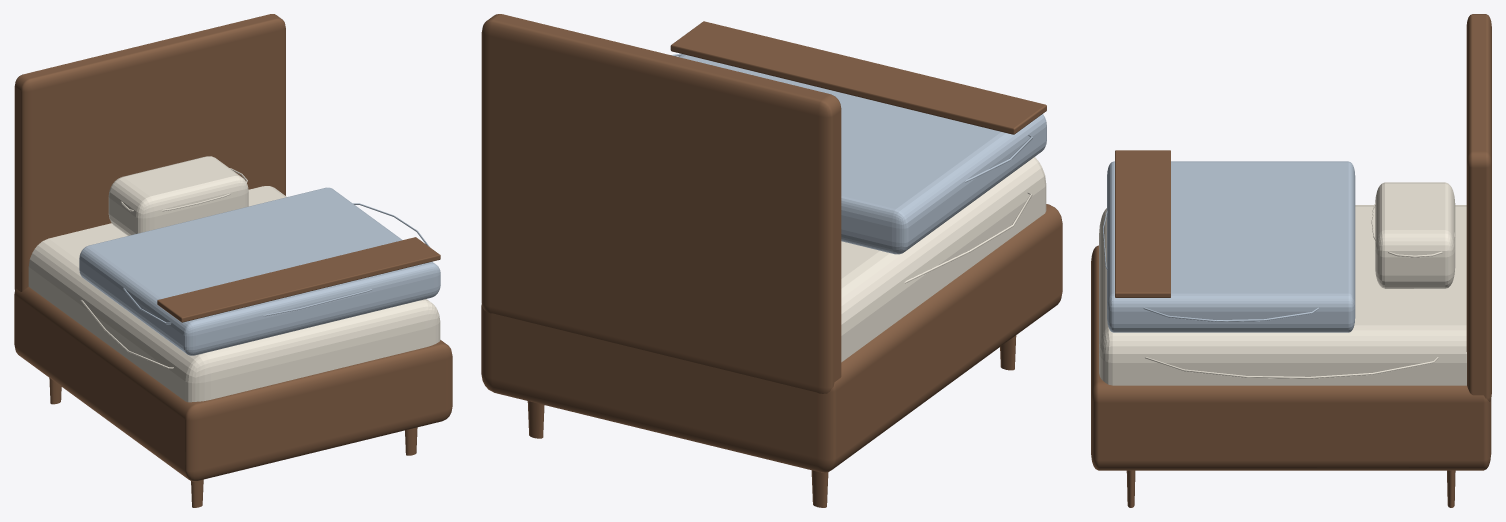
File: bed-2-3.glb
3 renders of one model, left to right at view 1: azimuth 30°, elevation 25°; view 2: azimuth 150°, elevation 25°; view 3: azimuth 270°, elevation 25°, orthographic. The views are drawn at different scales.
Parts seen in each view (by area): view 1: part, tailored-cushion (×2); view 2: part, tailored-cushion (×2); view 3: tailored-cushion (×2), part.
Part boxes in pixels (x1=…): part: x1=14, y1=14, x2=452, y2=507; tailored-cushion (×2): x1=28, y1=156, x2=440, y2=402; part: x1=481, y1=14, x2=1062, y2=507; tailored-cushion (×2): x1=671, y1=53, x2=1046, y2=362; tailored-cushion (×2): x1=1099, y1=161, x2=1466, y2=385; part: x1=1091, y1=14, x2=1491, y2=507.
Size of the model in its own units: 1 by 1 by 1.
